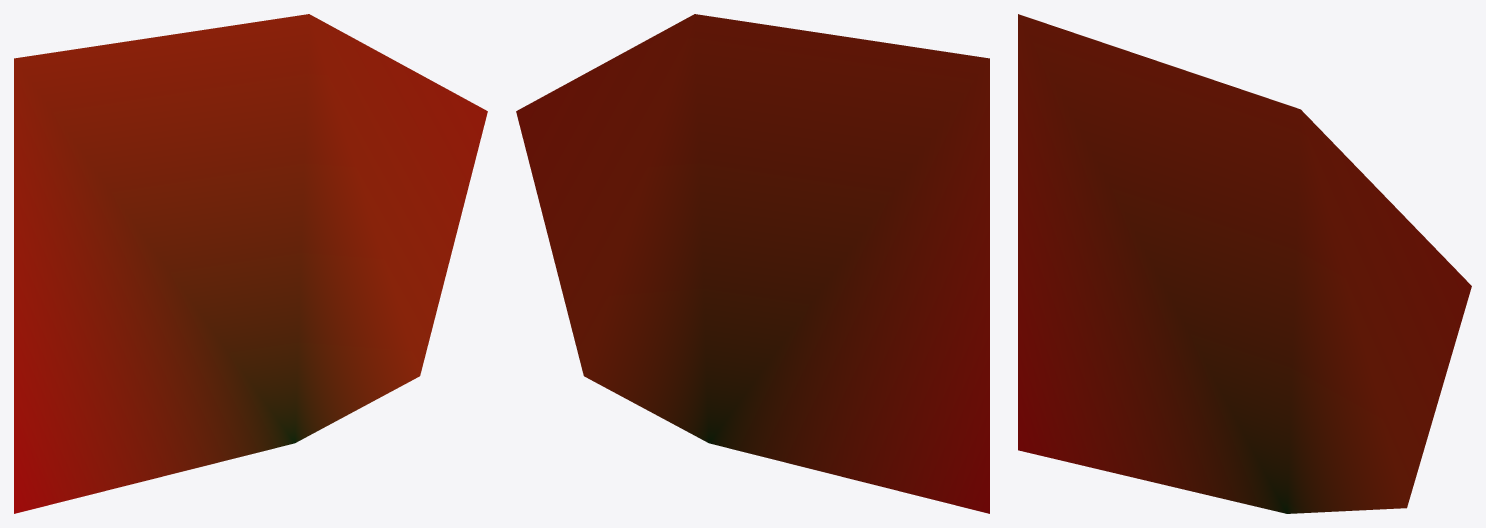
The model's file is Var2_LOD3.fbx.
3 views of the same model, side by side, from view 1: azimuth 30°, elevation 25°; view 2: azimuth 150°, elevation 25°; view 3: azimuth 330°, elevation 25° (orthographic). The views are drawn at different scales.
Visible parts, largest first — view 1: _d2ca_Var2_LOD3; view 2: _d2ca_Var2_LOD3; view 3: _d2ca_Var2_LOD3.
Part boxes in pixels (left/top/right/bottom): _d2ca_Var2_LOD3: left=14, top=14, right=487, bottom=513; _d2ca_Var2_LOD3: left=516, top=14, right=989, bottom=513; _d2ca_Var2_LOD3: left=1018, top=14, right=1471, bottom=513.
Size of the model in its own units: 169 by 155 by 7.63e-06.
